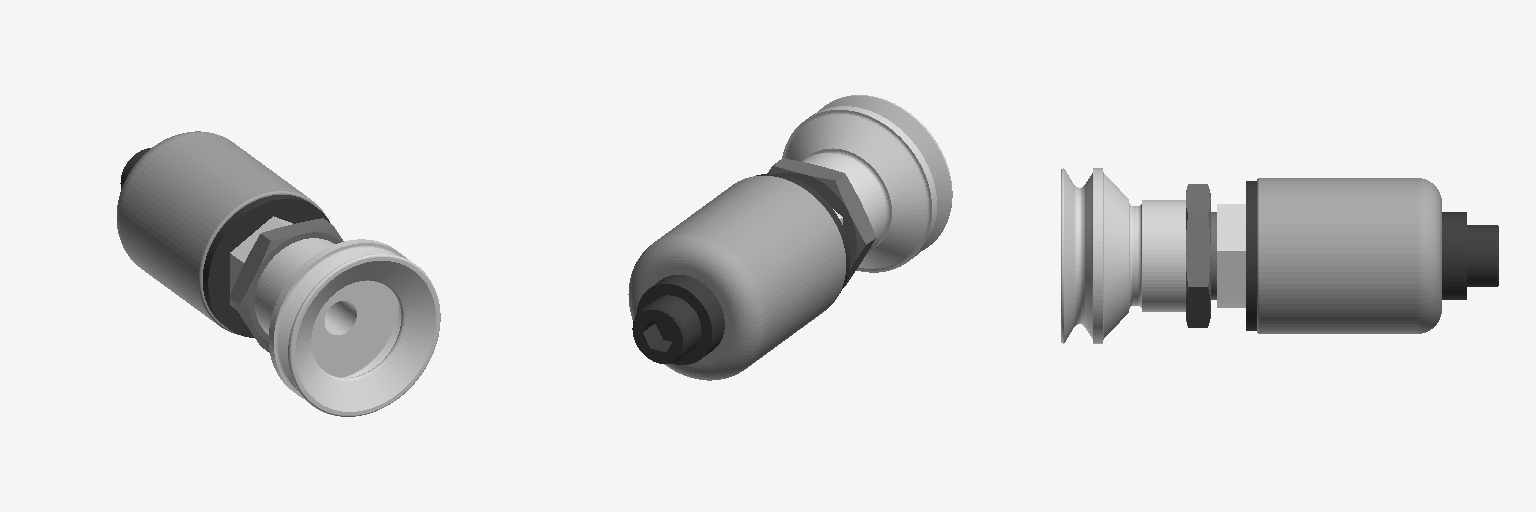
The model's file is Assembly_SMC_ABB_EE_SG_Type_2.obj.
3 views of the same model, side by side, from view 1: azimuth 30°, elevation 25°; view 2: azimuth 150°, elevation 25°; view 3: azimuth 270°, elevation 25° (orthographic).
Visible parts, largest first — view 1: Solid1:1, Solid1, Solid2; view 2: Solid1, Solid1:1, Solid2; view 3: Solid1, Solid1:1, Solid2.
Boxes of the visible parts, x1=… form: Solid1:1: x1=254, y1=238, x2=440, y2=416; Solid1: x1=117, y1=131, x2=329, y2=337; Solid2: x1=230, y1=218, x2=343, y2=352; Solid1: x1=628, y1=174, x2=849, y2=380; Solid1:1: x1=782, y1=95, x2=952, y2=272; Solid2: x1=767, y1=158, x2=875, y2=286; Solid1: x1=1217, y1=178, x2=1498, y2=333; Solid1:1: x1=1061, y1=168, x2=1185, y2=343; Solid2: x1=1186, y1=184, x2=1216, y2=327.
Bounding box in the file's own units: 14 × 14 × 35.1.